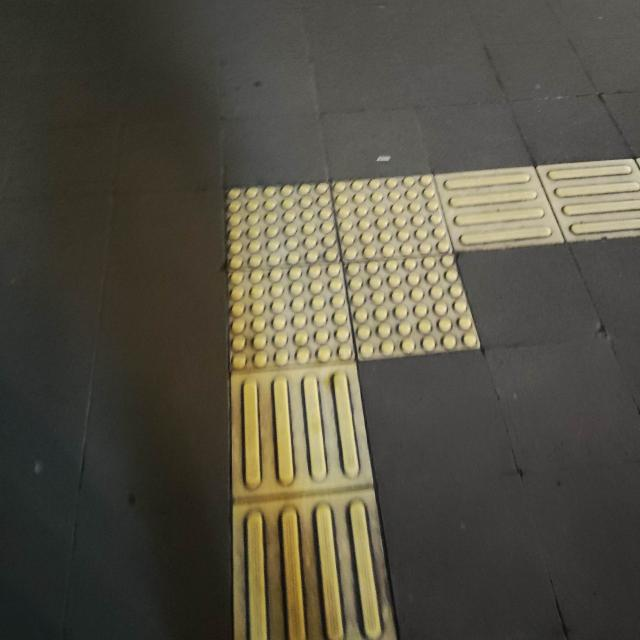kanan: (186, 117, 640, 456)
